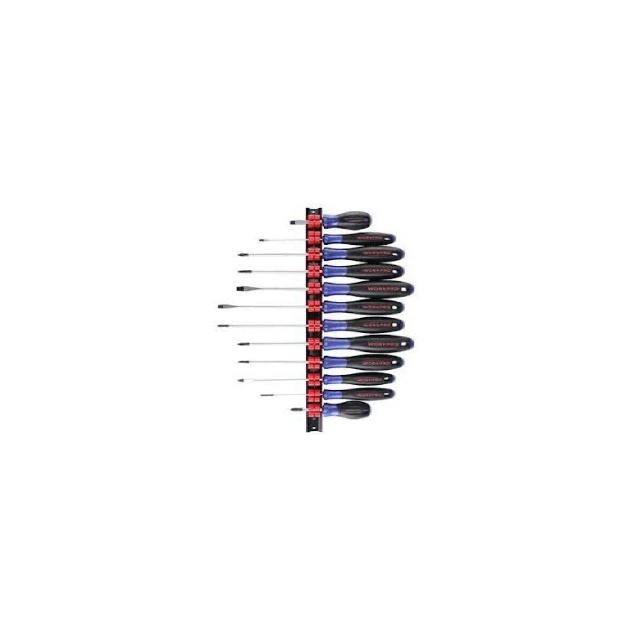screwdriver: (216, 298, 405, 316), (234, 352, 404, 372), (216, 316, 404, 334), (236, 280, 414, 299), (235, 336, 414, 354), (236, 262, 405, 280), (235, 246, 405, 262), (235, 372, 396, 386), (252, 386, 394, 401), (258, 231, 396, 246), (288, 211, 371, 232), (288, 400, 371, 420)
